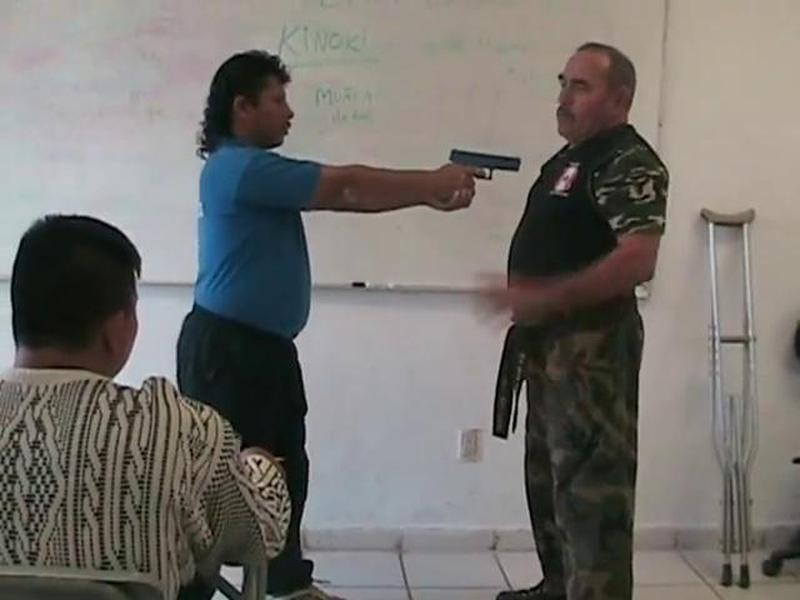Pistola: (438, 137, 539, 226)
